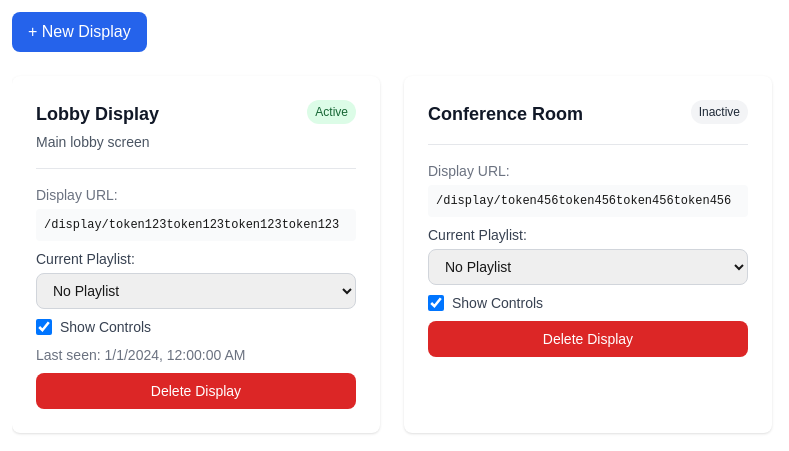
Test: DisplayManager Component › should delete display when confirmed
Click the button "Delete Display" below "Last seen:". click: (196, 391)
box: [36,373,356,409]
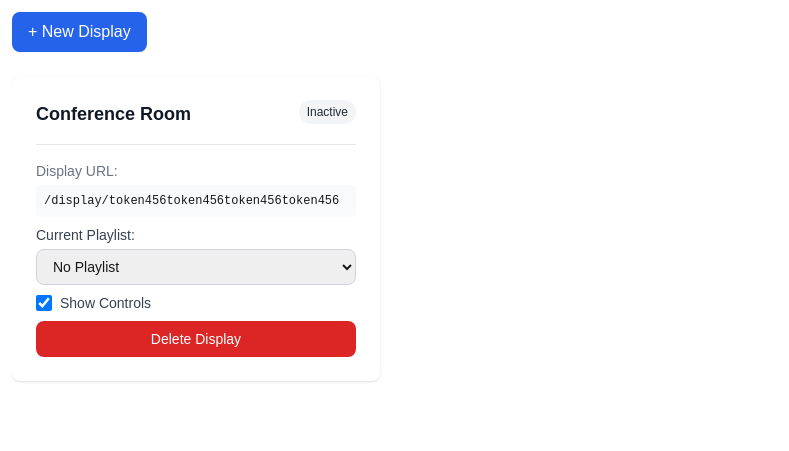
Expected: the heading "Conference Room" is shown, [36,100,191,128]
Result: the heading "Lobby Display" is gone
